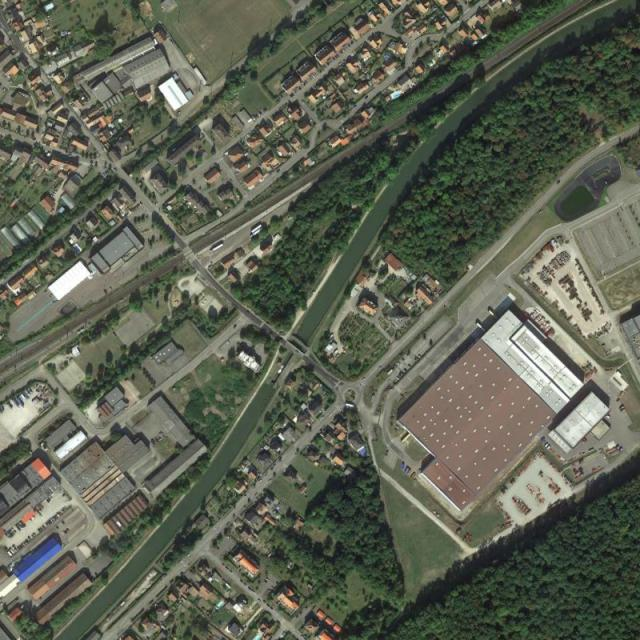vehicle: (250, 224, 263, 234), (210, 243, 224, 252)
